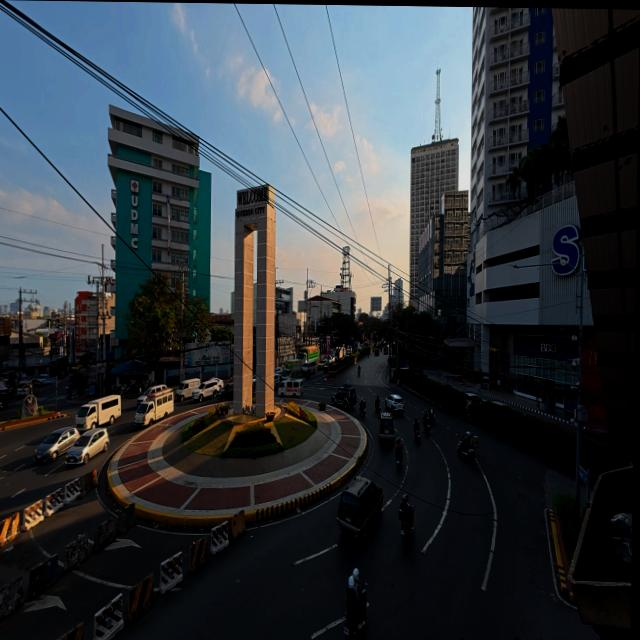car: (34, 427, 80, 462), (67, 429, 109, 465), (192, 378, 223, 402), (331, 383, 357, 409), (137, 384, 167, 405), (380, 413, 395, 441), (385, 394, 404, 415), (582, 428, 608, 443), (217, 382, 233, 402), (465, 392, 481, 410), (491, 400, 512, 410), (36, 374, 55, 385), (281, 368, 292, 379), (274, 374, 281, 390), (317, 359, 327, 370), (275, 368, 283, 376), (384, 347, 388, 354), (375, 349, 379, 356)
motorcycle: (457, 436, 474, 462), (399, 509, 411, 542), (361, 583, 367, 619), (423, 414, 431, 434), (395, 450, 402, 468), (415, 425, 421, 442), (359, 400, 365, 416), (430, 412, 435, 426), (305, 369, 311, 380), (376, 405, 380, 417), (67, 387, 71, 399), (358, 366, 361, 377)
trucks: (298, 345, 319, 362), (286, 358, 303, 377)
vans: (337, 476, 383, 538), (75, 394, 122, 434), (135, 389, 173, 426), (175, 379, 200, 401), (279, 378, 303, 398), (17, 382, 32, 396), (303, 361, 316, 374)
